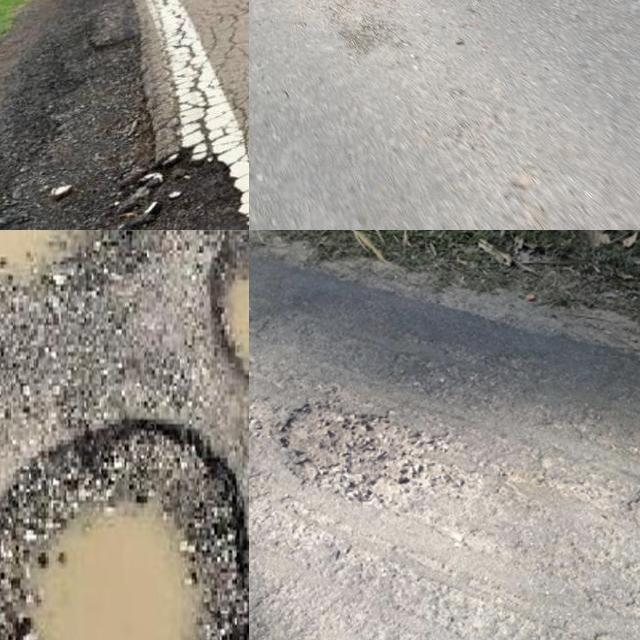Lubang: (0, 419, 249, 640), (275, 403, 442, 492)
Pinggir: (108, 144, 249, 230)
Retak Buaya: (137, 0, 249, 207)
